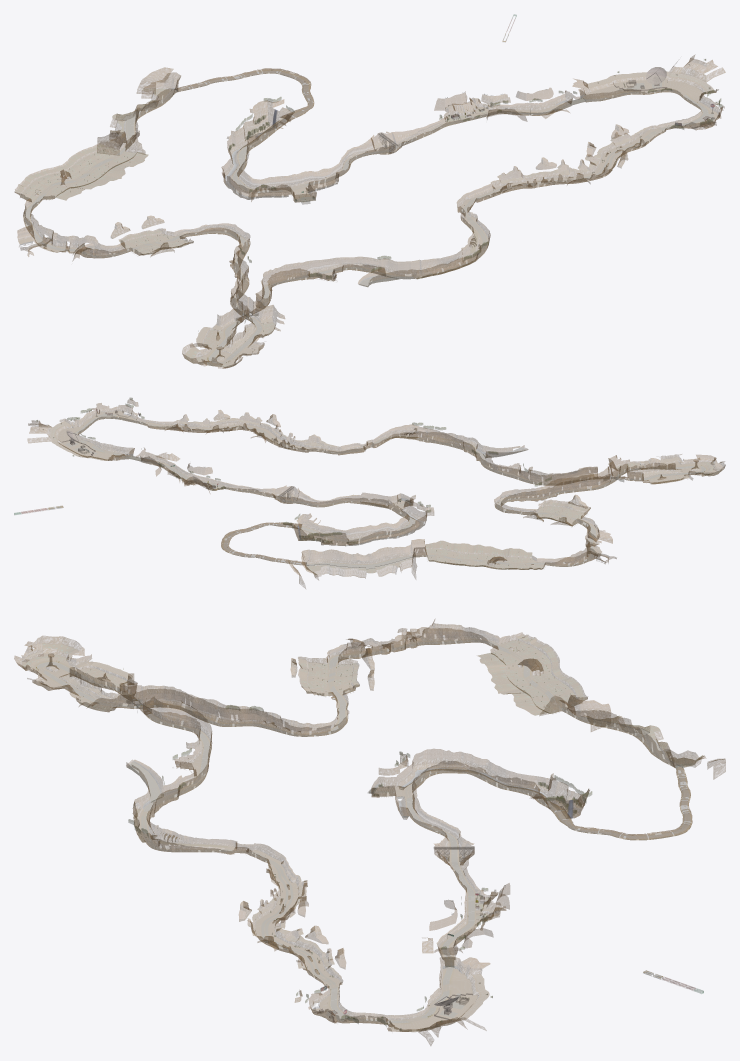
The model's file is redrock-ridge.glb.
The picture shows the model from 3 angles, top to bottom: view 1: azimuth 30°, elevation 25°; view 2: azimuth 150°, elevation 25°; view 3: azimuth 270°, elevation 25°; orthographic projection. The views are drawn at different scales.
Parts seen in each view (by area): view 1: 0001.028, 0016.002; view 2: 0017.042, 0001.028, 0016.002, 0016.014, 0016.010; view 3: 0016.002, 0001.028.
Boxes of the visible parts, <box> form: 0001.028: <box>434,88,553,121</box>; 0016.002: <box>24,144,130,192</box>; 0017.042: <box>325,560,411,578</box>; 0001.028: <box>143,457,221,492</box>; 0016.002: <box>427,549,522,569</box>; 0016.014: <box>429,541,519,555</box>; 0016.010: <box>426,541,520,555</box>; 0016.002: <box>502,644,582,712</box>; 0001.028: <box>429,883,509,948</box>.
Bounding box in the file's own units: 2573 × 155 × 1861.
1 material, 1 textured.
